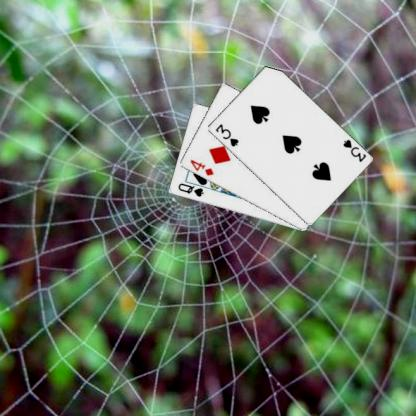3S: (212, 121, 240, 148), (340, 137, 368, 163)
4D: (187, 157, 215, 177)
QS: (175, 180, 205, 199)
